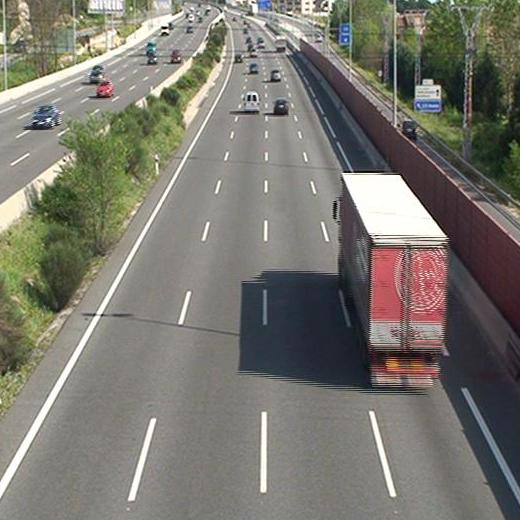car: (274, 100, 290, 113), (270, 70, 281, 82), (248, 63, 258, 73), (234, 54, 243, 63)
truck: (337, 174, 447, 387)
van: (245, 93, 260, 113)
